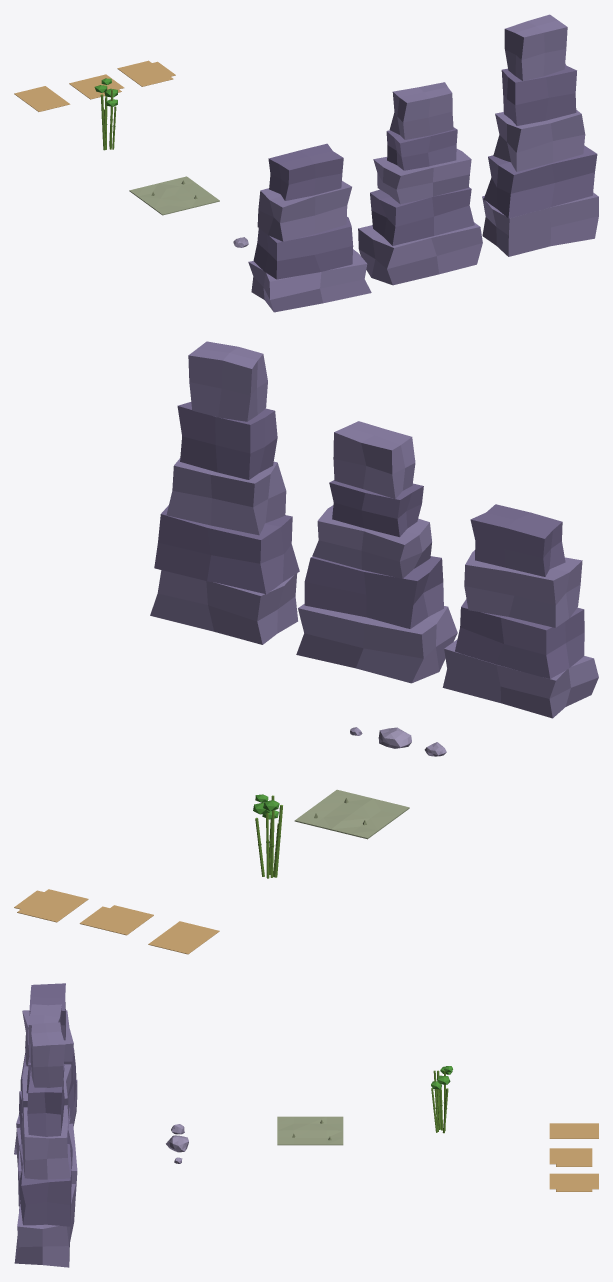
The model's file is kit_lembah_v001.glb.
3 views of the same model, one above another, from view 1: azimuth 30°, elevation 25°; view 2: azimuth 150°, elevation 25°; view 3: azimuth 270°, elevation 25° (orthographic). The views are drawn at different scales.
Visible parts, largest first — view 1: tebing_lembah_c, tebing_lembah_b, tebing_lembah_a, lantai_lembah, jalan_lebar_pertigaan, rumpun_bambu, jalan_lebar_lurus, jalan_lebar_belok; view 2: tebing_lembah_c, tebing_lembah_b, tebing_lembah_a, lantai_lembah, rumpun_bambu, jalan_lebar_pertigaan, jalan_lebar_belok, jalan_lebar_lurus; view 3: tebing_lembah_c, tebing_lembah_a, tebing_lembah_b, lantai_lembah, jalan_lebar_pertigaan, rumpun_bambu, jalan_lebar_belok, jalan_lebar_lurus.
Boxes of the visible parts, x1=… form: tebing_lembah_c: x1=482, y1=14, x2=598, y2=256; tebing_lembah_b: x1=358, y1=82, x2=482, y2=285; tebing_lembah_a: x1=248, y1=143, x2=371, y2=312; lantai_lembah: x1=129, y1=176, x2=219, y2=215; jalan_lebar_pertigaan: x1=117, y1=60, x2=175, y2=86; rumpun_bambu: x1=94, y1=78, x2=117, y2=150; jalan_lebar_lurus: x1=14, y1=86, x2=70, y2=111; jalan_lebar_belok: x1=69, y1=74, x2=124, y2=99; tebing_lembah_c: x1=150, y1=341, x2=299, y2=644; tebing_lembah_b: x1=296, y1=421, x2=457, y2=683; tebing_lembah_a: x1=442, y1=504, x2=598, y2=718; lantai_lembah: x1=294, y1=789, x2=409, y2=839; rumpun_bambu: x1=253, y1=794, x2=282, y2=878; jalan_lebar_pertigaan: x1=14, y1=889, x2=88, y2=922; jalan_lebar_belok: x1=79, y1=905, x2=153, y2=935; jalan_lebar_lurus: x1=148, y1=921, x2=219, y2=954; tebing_lembah_c: x1=14, y1=1022, x2=75, y2=1267; tebing_lembah_a: x1=14, y1=983, x2=77, y2=1154; tebing_lembah_b: x1=16, y1=1004, x2=77, y2=1205; lantai_lembah: x1=277, y1=1116, x2=343, y2=1145; jalan_lebar_pertigaan: x1=549, y1=1173, x2=598, y2=1191; rumpun_bambu: x1=431, y1=1066, x2=452, y2=1133; jalan_lebar_belok: x1=549, y1=1148, x2=592, y2=1166; jalan_lebar_lurus: x1=549, y1=1123, x2=598, y2=1138.
Bounding box in the file's own units: 22.98 × 14.06 × 35.46.
